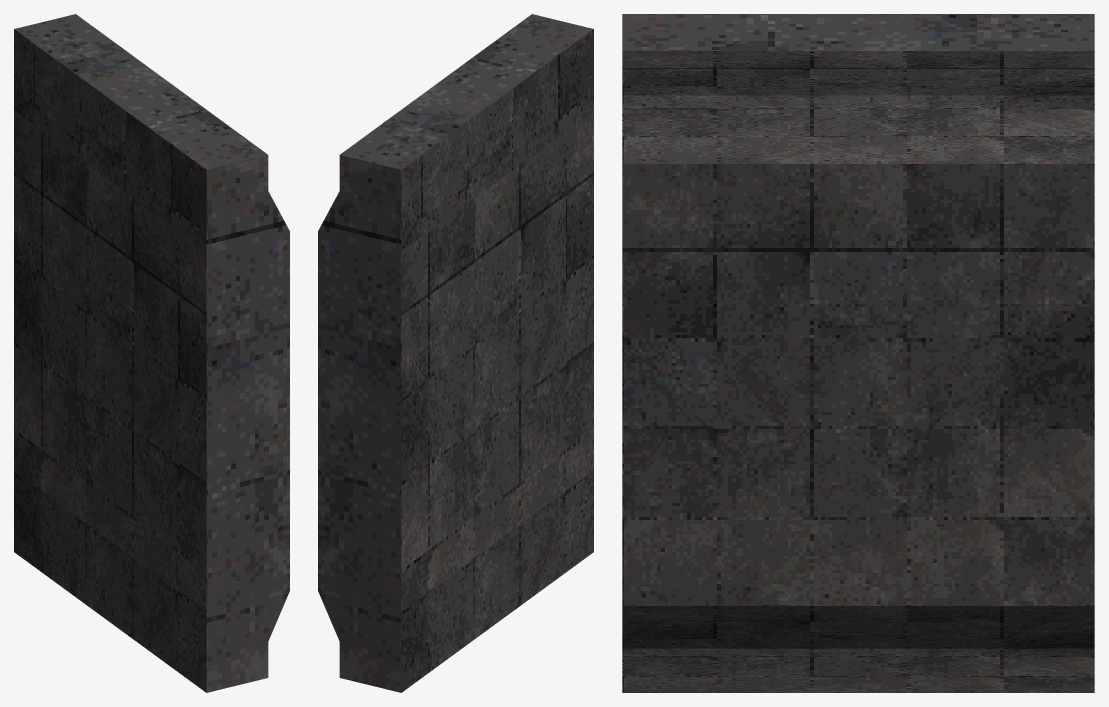
File: Black_Concrete_Fat_wall-col.glb
3 renders of one model, left to right at view 1: azimuth 30°, elevation 25°; view 2: azimuth 150°, elevation 25°; view 3: azimuth 270°, elevation 25°, orthographic. The views are drawn at different scales.
Visible parts, largest first — view 1: Black_Concrete_Fat_wall-col; view 2: Black_Concrete_Fat_wall-col; view 3: Black_Concrete_Fat_wall-col.
Boxes of the visible parts, x1,y1,x2,y2 form: Black_Concrete_Fat_wall-col: (14,14,289,692); Black_Concrete_Fat_wall-col: (318,14,593,692); Black_Concrete_Fat_wall-col: (622,14,1094,692).
Size of the model in its own units: 0.5 by 3 by 2.
Materials: 1 (1 with a texture image).
